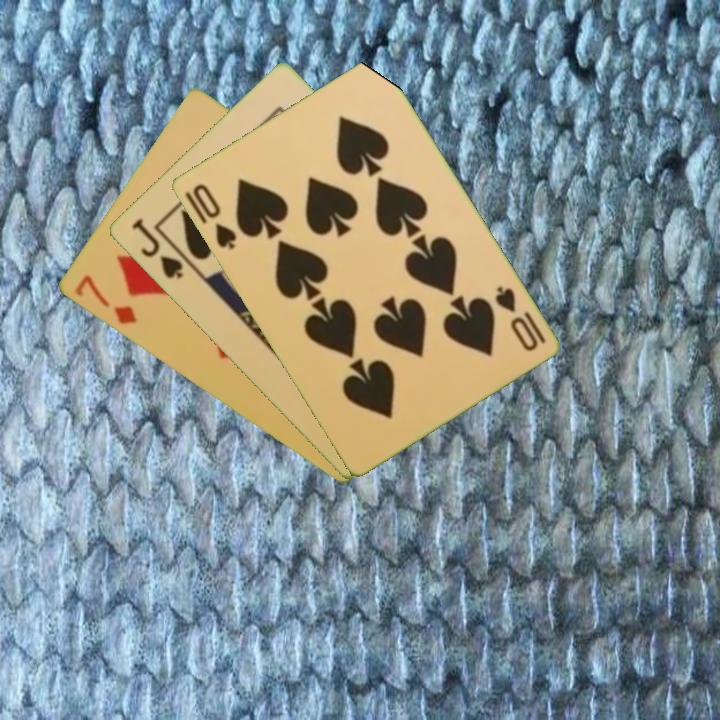10s: (490, 282, 548, 354), (188, 180, 239, 253)
7d: (70, 271, 139, 328)
Js: (127, 214, 186, 282)
